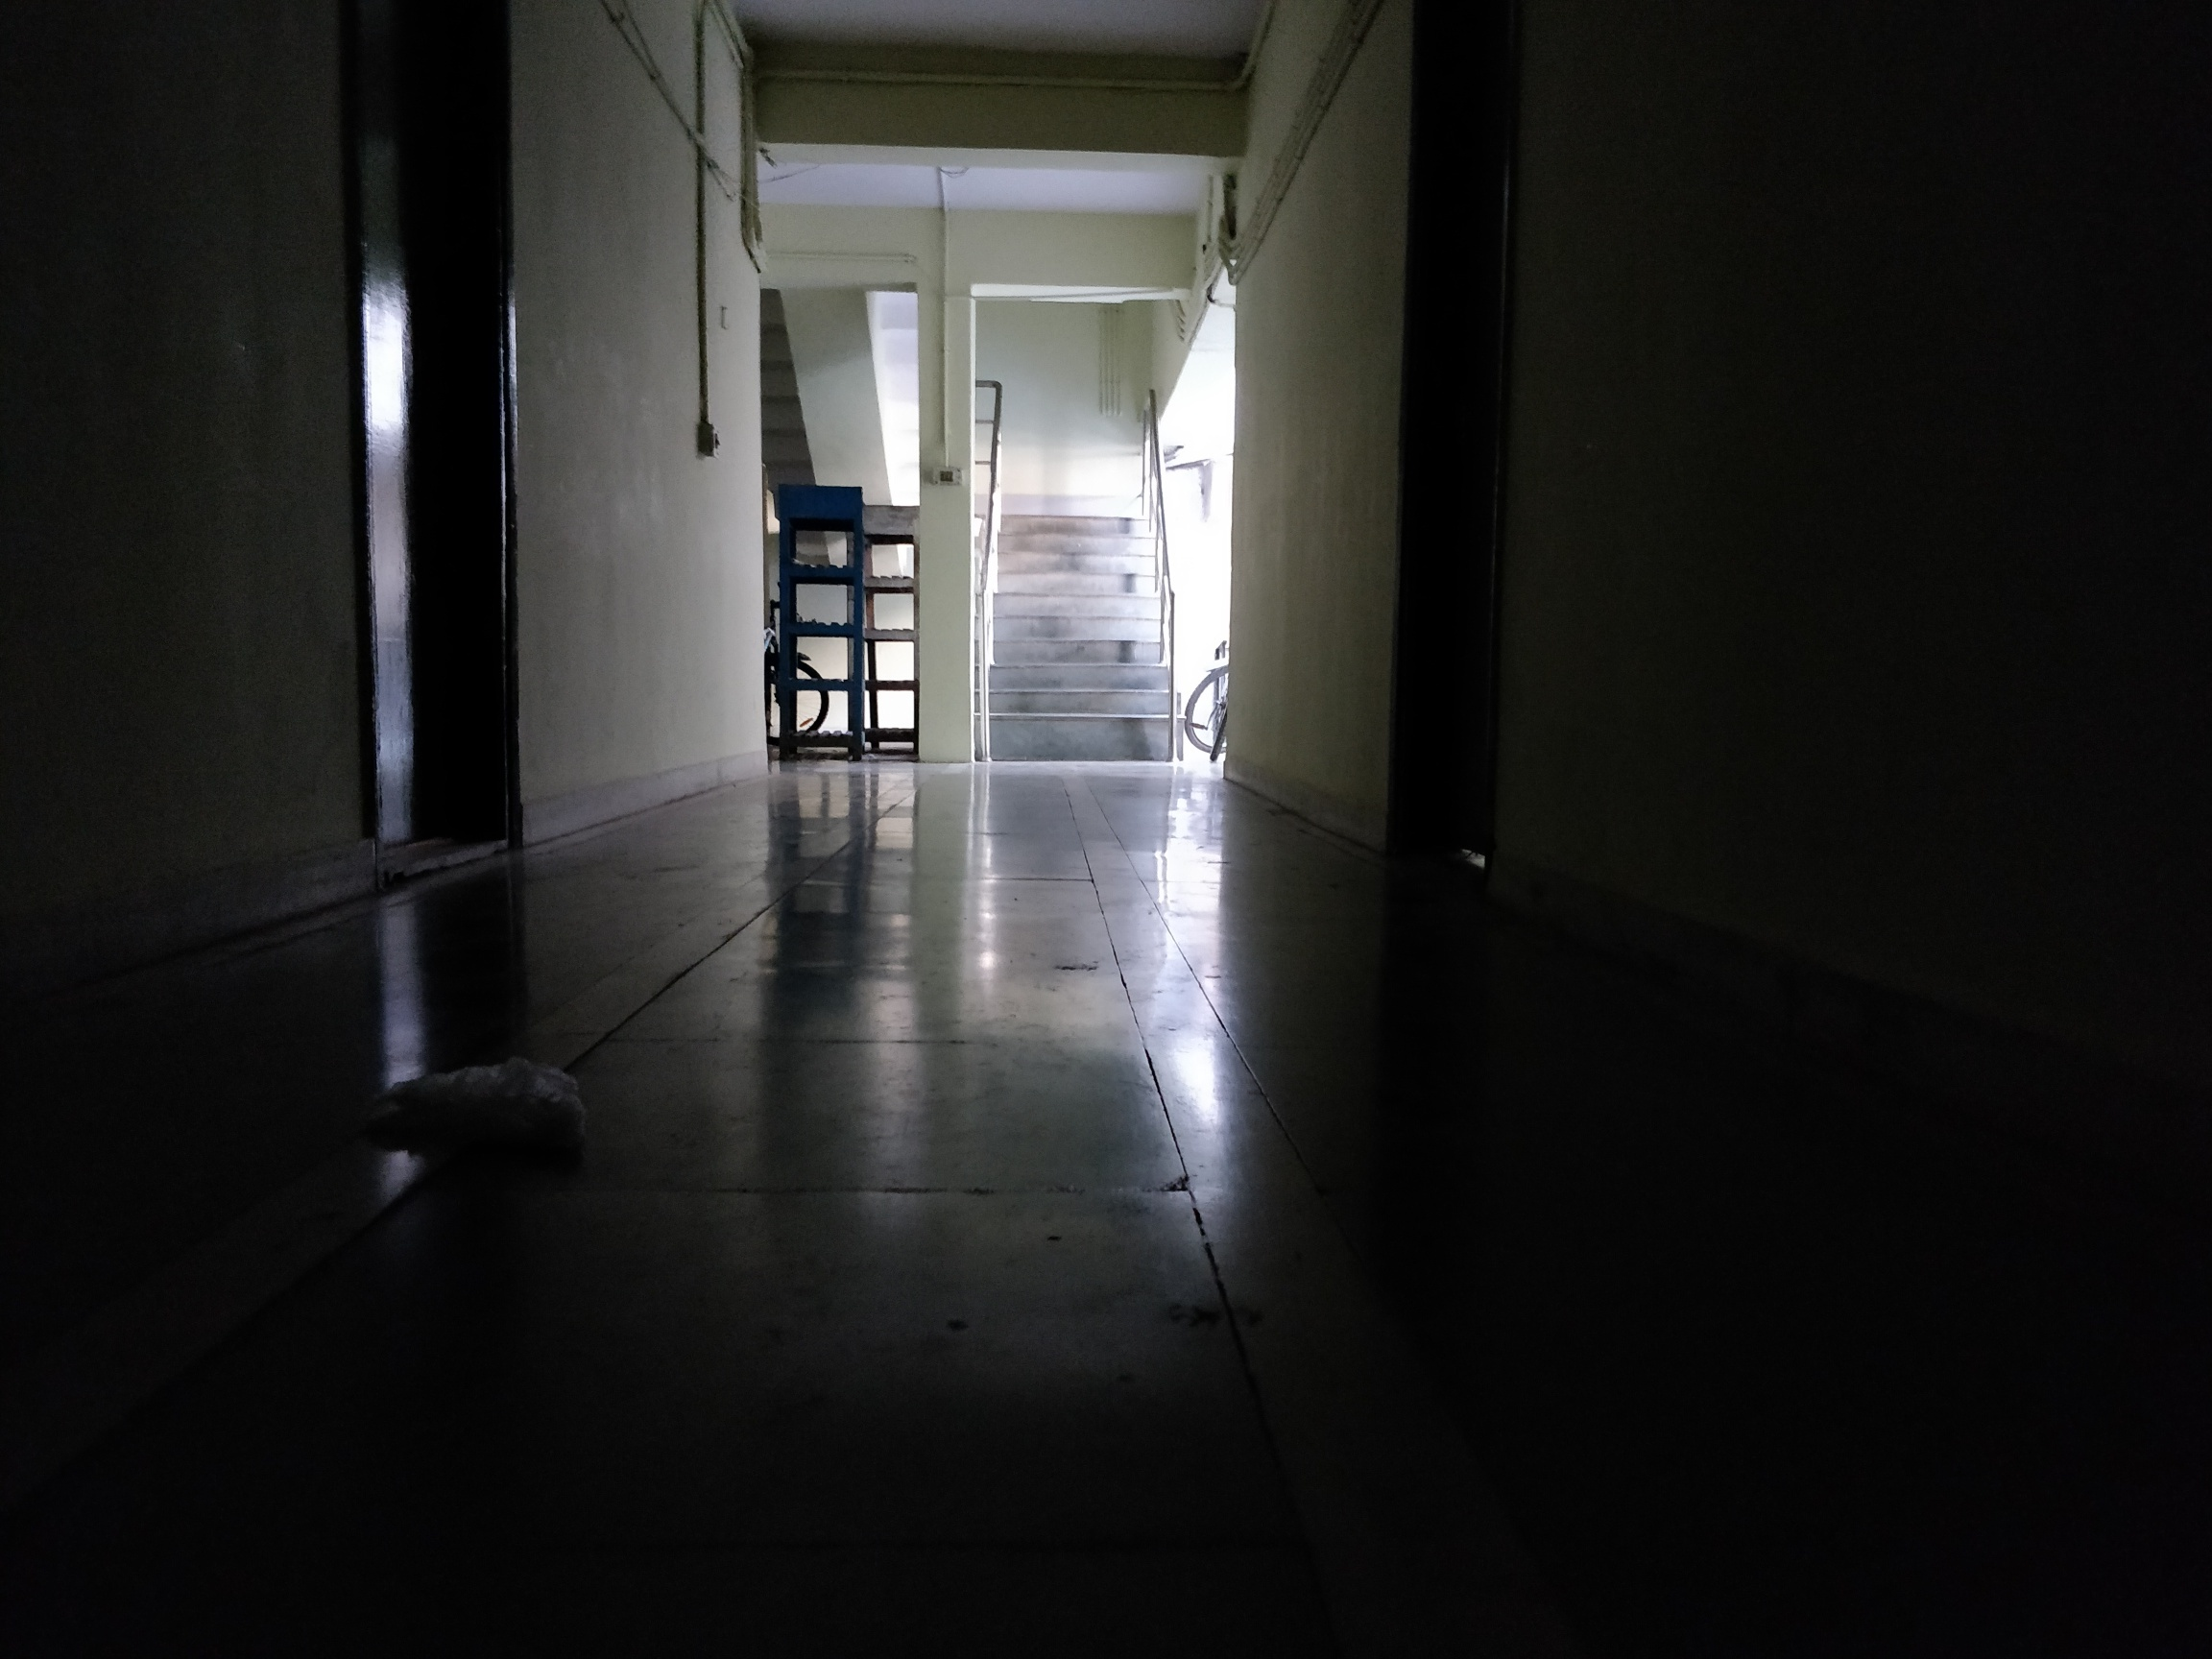stairs_up: (979, 512, 1176, 760)
